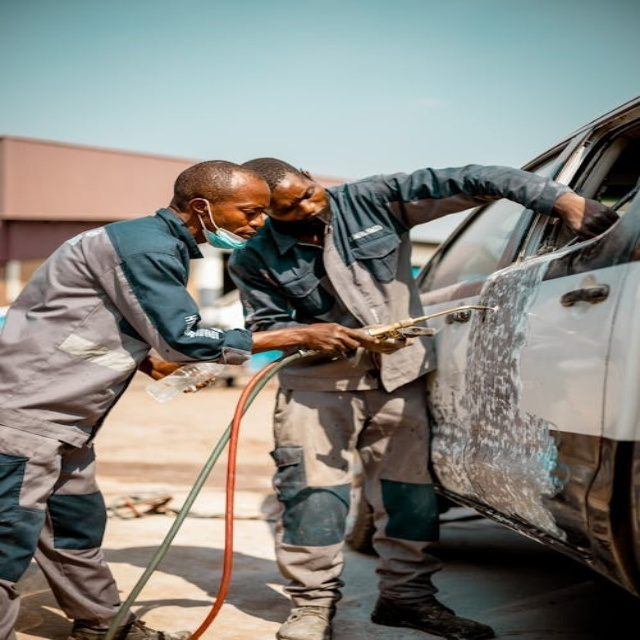Mascara: (269, 198, 332, 235)
Sin_gafas: (280, 181, 321, 216), (239, 206, 260, 216)
Sin_guantes: (291, 315, 378, 359), (145, 354, 220, 397), (556, 188, 618, 240)
Sin_mascara: (227, 224, 261, 241)
